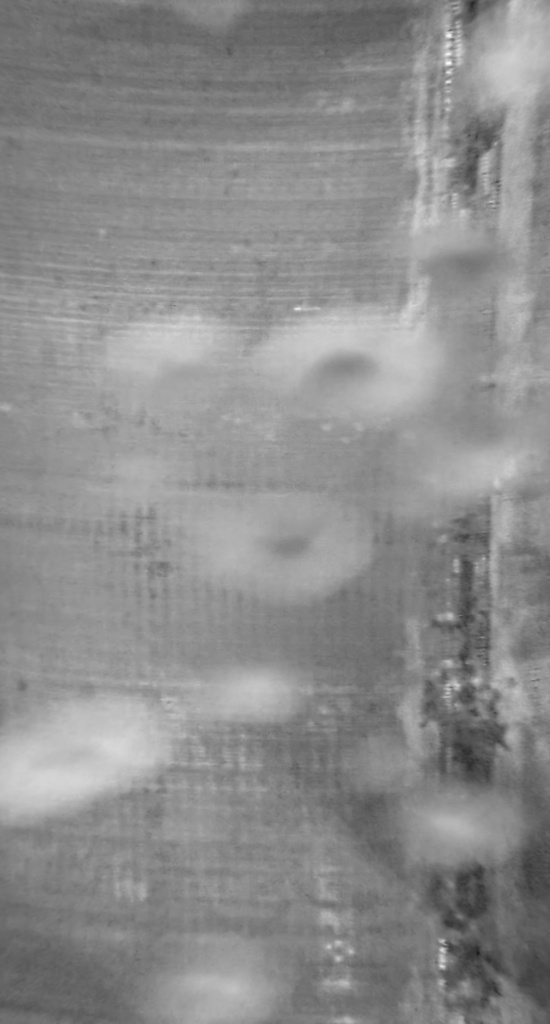splice: (419, 1, 516, 1024)
